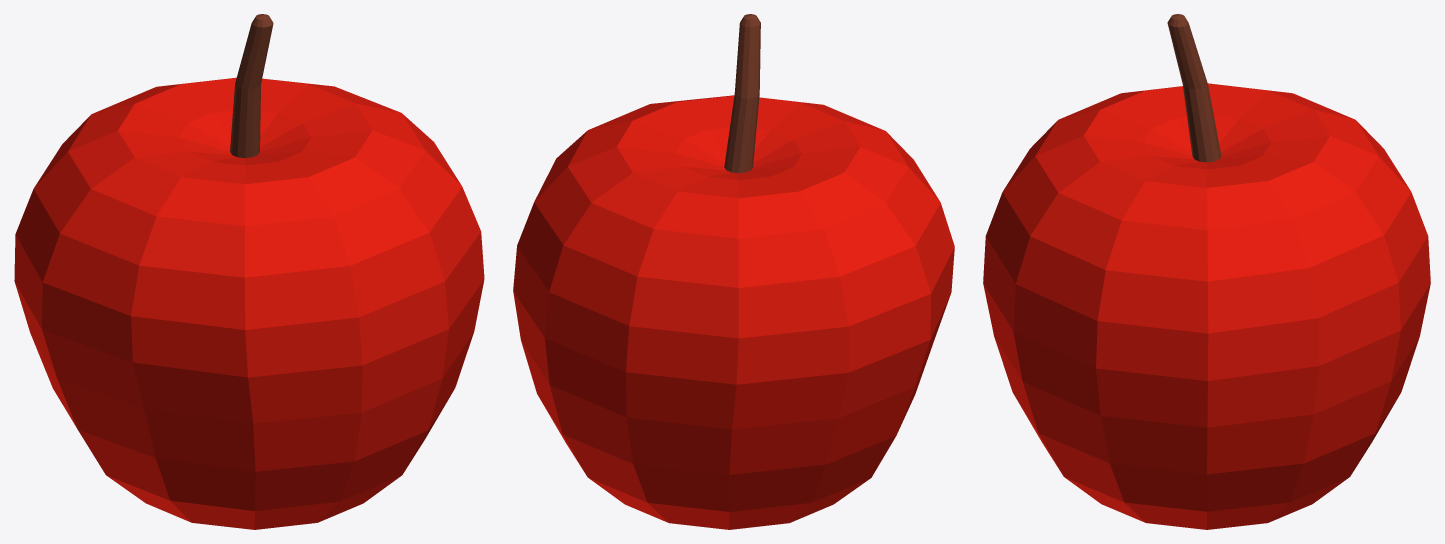
File: Apple.fbx
The picture shows the model from 3 angles, left to right: view 1: azimuth 30°, elevation 25°; view 2: azimuth 150°, elevation 25°; view 3: azimuth 270°, elevation 25°; orthographic projection. The views are drawn at different scales.
Parts seen in each view (by area): view 1: Apple; view 2: Apple; view 3: Apple.
Part boxes in pixels (box(x1,y1,x2,y2)): Apple: box(14, 14, 484, 529); Apple: box(513, 14, 954, 529); Apple: box(983, 14, 1430, 529).
Size of the model in its own units: 8.25 by 9.52 by 8.03.
